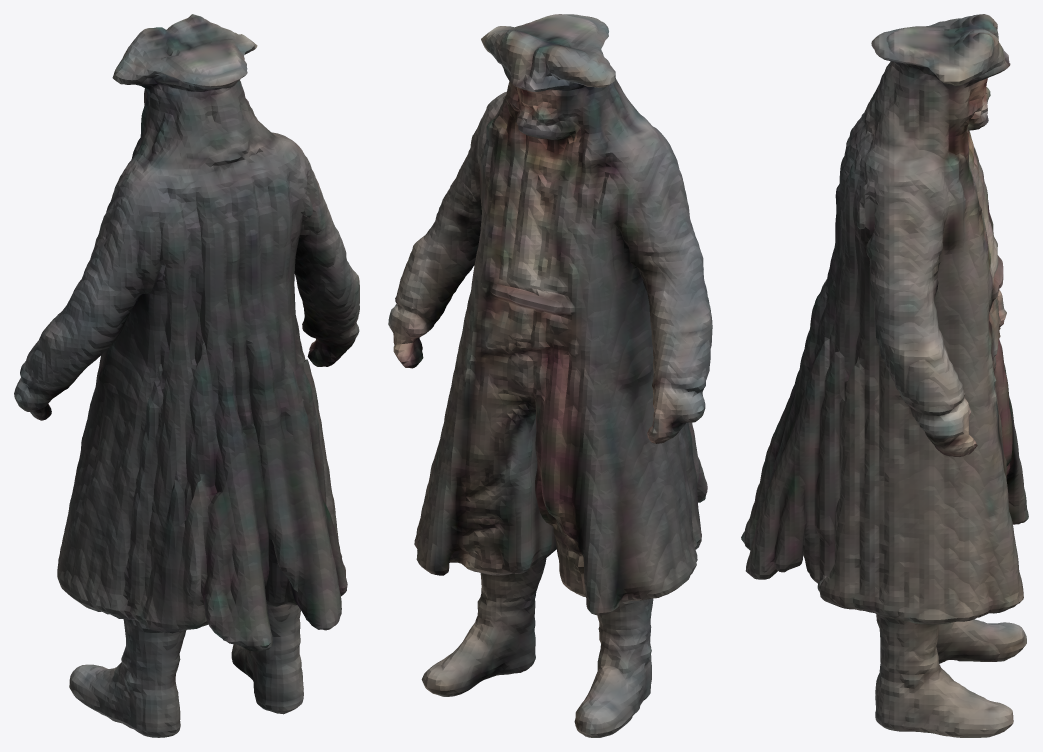
The model's file is pirate_captain.glb.
The picture shows the model from 3 angles, left to right: view 1: azimuth 30°, elevation 25°; view 2: azimuth 150°, elevation 25°; view 3: azimuth 270°, elevation 25°; orthographic projection.
Parts seen in each view (by area): view 1: world; view 2: world; view 3: world.
Part boxes in pixels (<box>): world: <box>14,14,359,737</box>; world: <box>388,14,712,737</box>; world: <box>741,14,1028,737</box>.
Size of the model in its own units: 0.508 by 1.02 by 0.3935.
